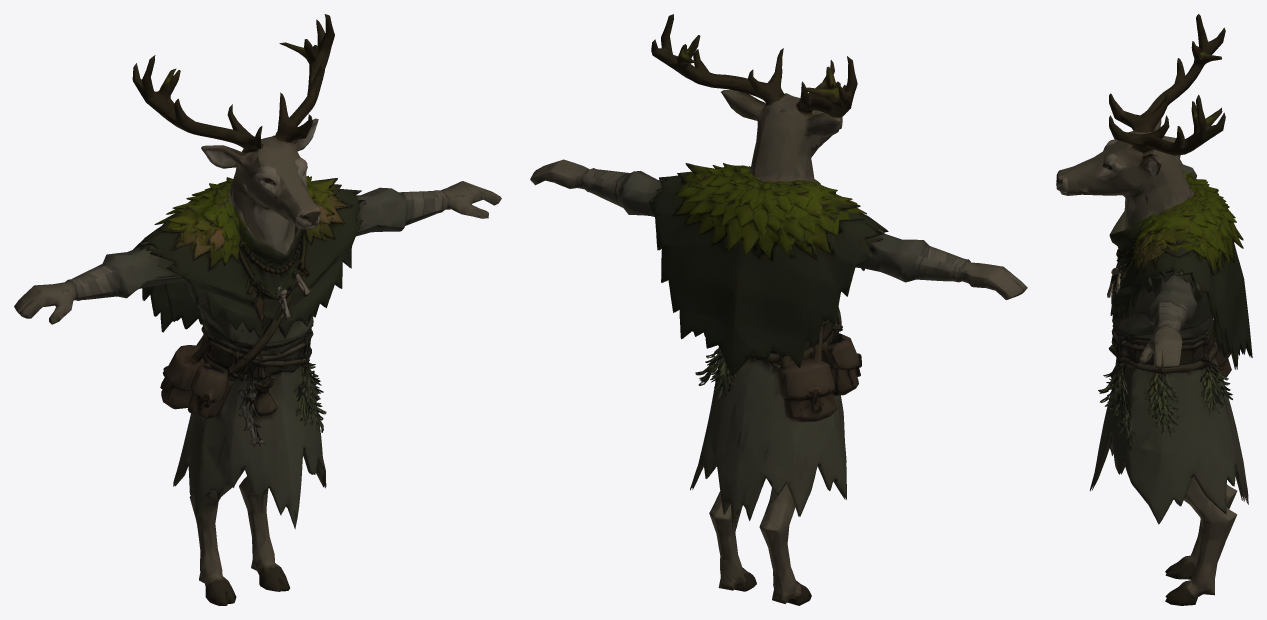
The model's file is ciervo.fbx.
3 renders of one model, left to right at view 1: azimuth 30°, elevation 25°; view 2: azimuth 150°, elevation 25°; view 3: azimuth 270°, elevation 25°, orthographic. The views are drawn at different scales.
Parts seen in each view (by area): view 1: node_0; view 2: node_0; view 3: node_0.
Part boxes in pixels (x1=…): node_0: x1=14, y1=14, x2=501, y2=605; node_0: x1=530, y1=14, x2=1027, y2=605; node_0: x1=1056, y1=14, x2=1252, y2=605.
Size of the model in its own units: 103 by 113 by 37.62.
1 material, 1 textured.
